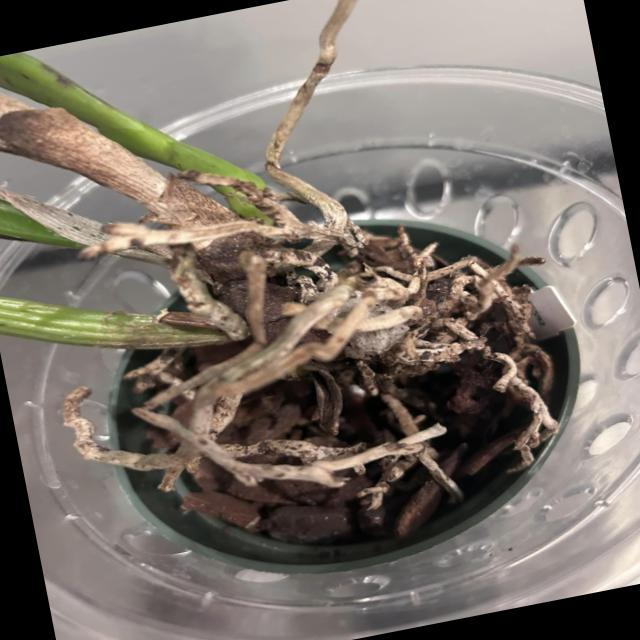leaf: (0, 52, 242, 177), (0, 296, 232, 346)
root: (81, 171, 420, 487)
